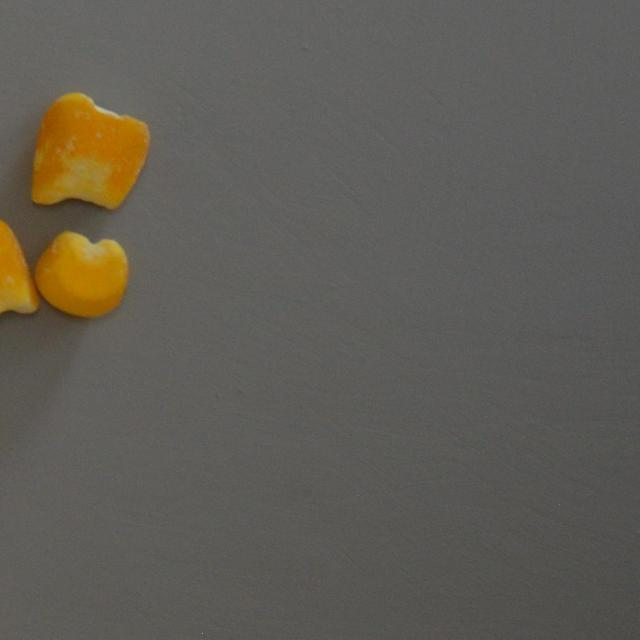pelicula: (26, 88, 154, 214), (32, 228, 130, 320), (0, 214, 41, 328)
